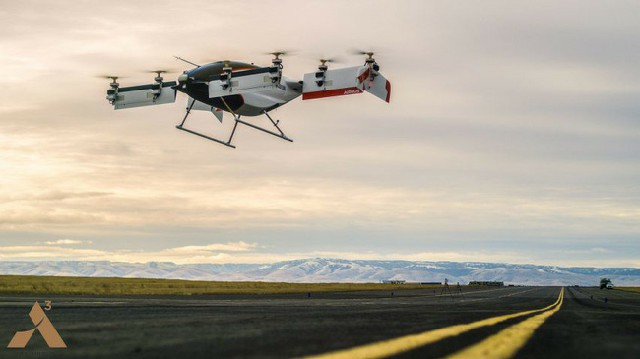maybay_khongnguoilai: (98, 49, 390, 146)
